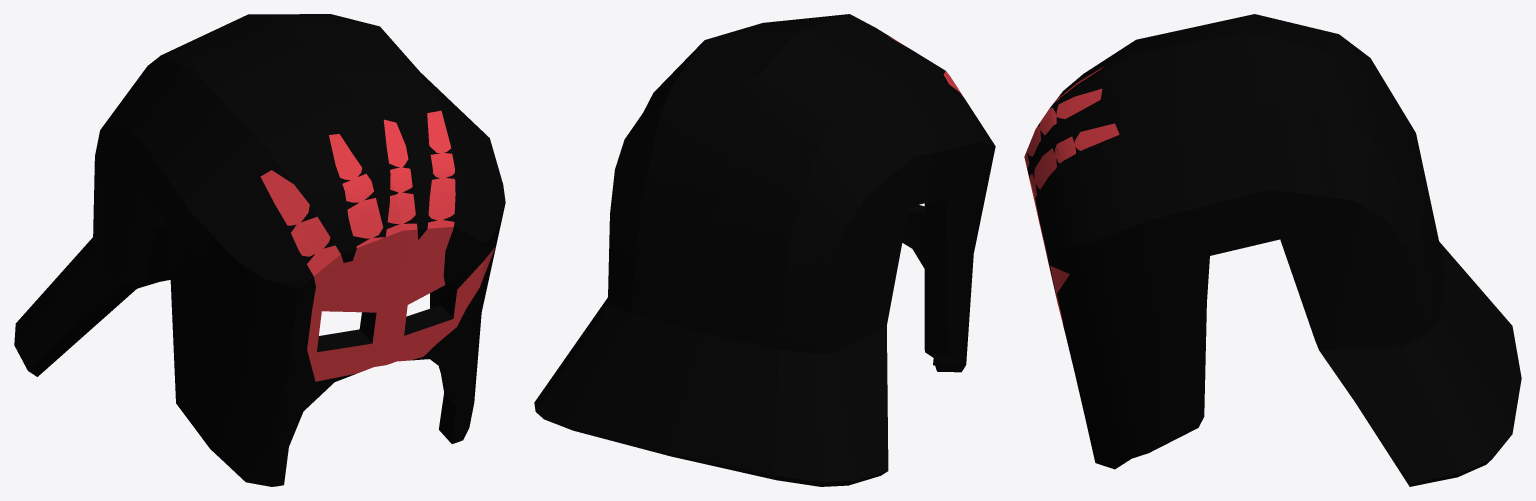
Rendered from Ork Helmet 01.fbx.
3 views of the same model, side by side, from view 1: azimuth 30°, elevation 25°; view 2: azimuth 150°, elevation 25°; view 3: azimuth 270°, elevation 25° (orthographic). The views are drawn at different scales.
Visible parts, largest first — view 1: Ork Helmet 01; view 2: Ork Helmet 01; view 3: Ork Helmet 01.
Boxes of the visible parts, bbox=[...] form: Ork Helmet 01: bbox=[14, 14, 505, 486]; Ork Helmet 01: bbox=[534, 14, 995, 486]; Ork Helmet 01: bbox=[1024, 14, 1521, 486].
Bounding box in the file's own units: 31.4 × 31.69 × 37.14.
